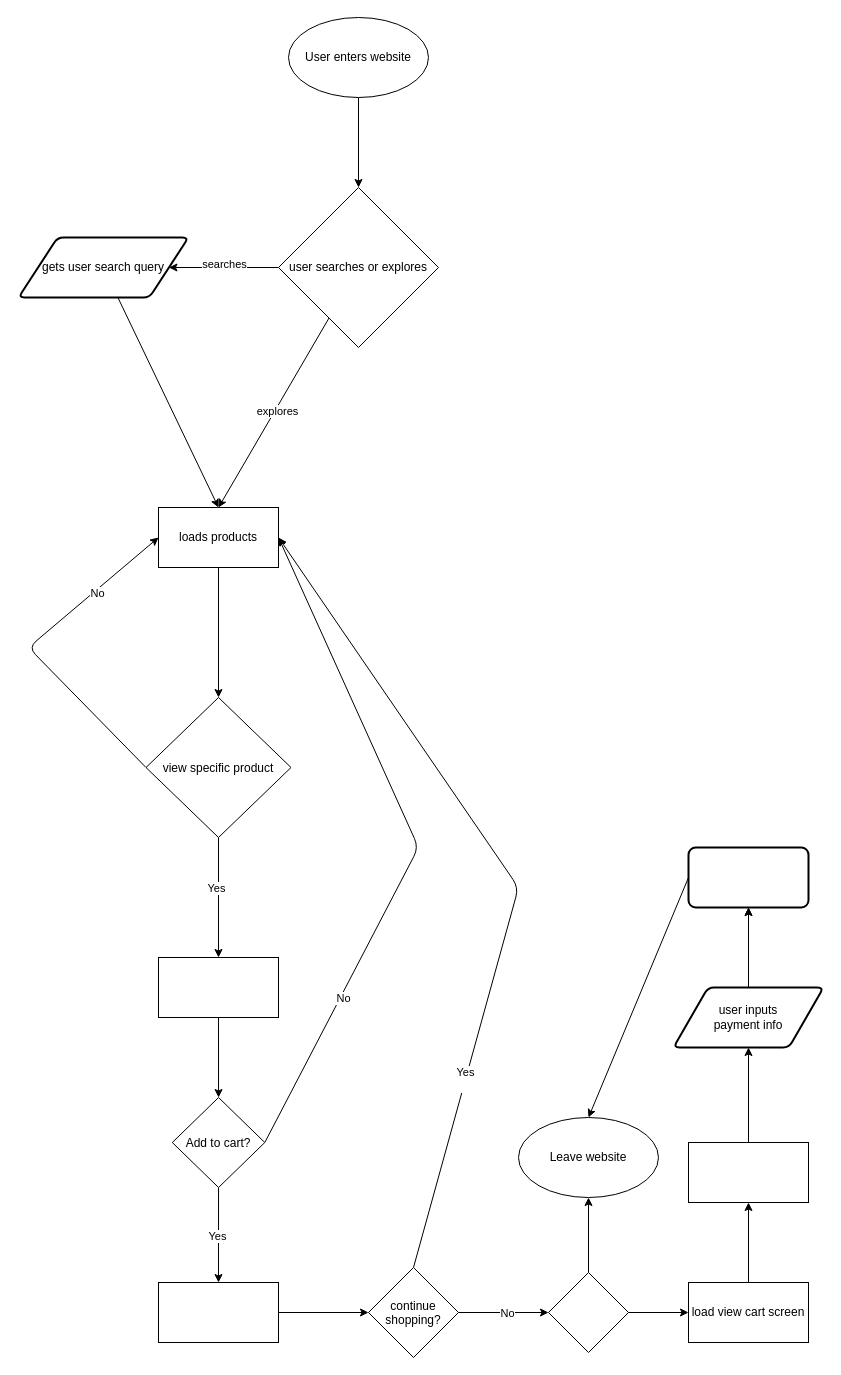
This 841x1375 diagram has some shape labels left out. The shapes that lost their labels are listed below. From the top down, each one's box as (x1, y1, x2, y2) in pixels, then its label:
(687, 846, 809, 908): user gets payment confirmation screen, and recieves email
(158, 956, 278, 1018): Products webpage opens
(688, 1142, 808, 1202): load view payment screen
(158, 1282, 278, 1342): Send Cart confirmation
(548, 1272, 628, 1352): checkout?
